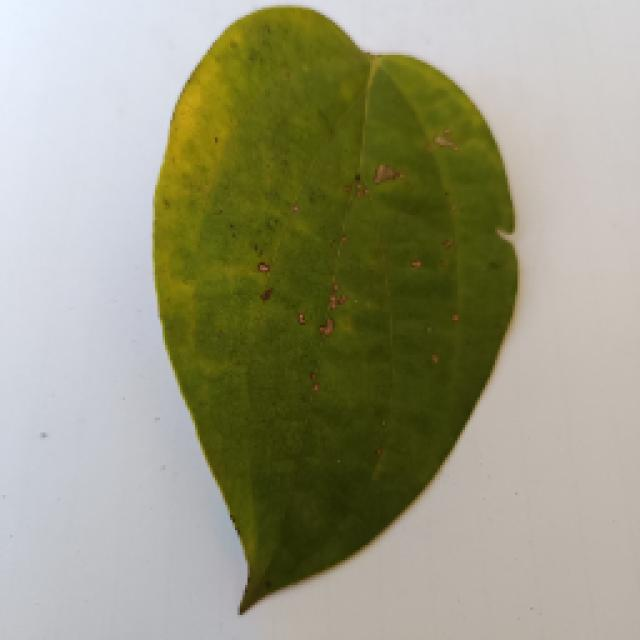slow-decline: (150, 5, 515, 610)
